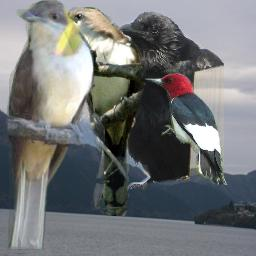Crow: (110, 10, 224, 190)
Cuckoo: (3, 0, 94, 249), (45, 7, 146, 216)
Woodpecker: (144, 73, 229, 185)
